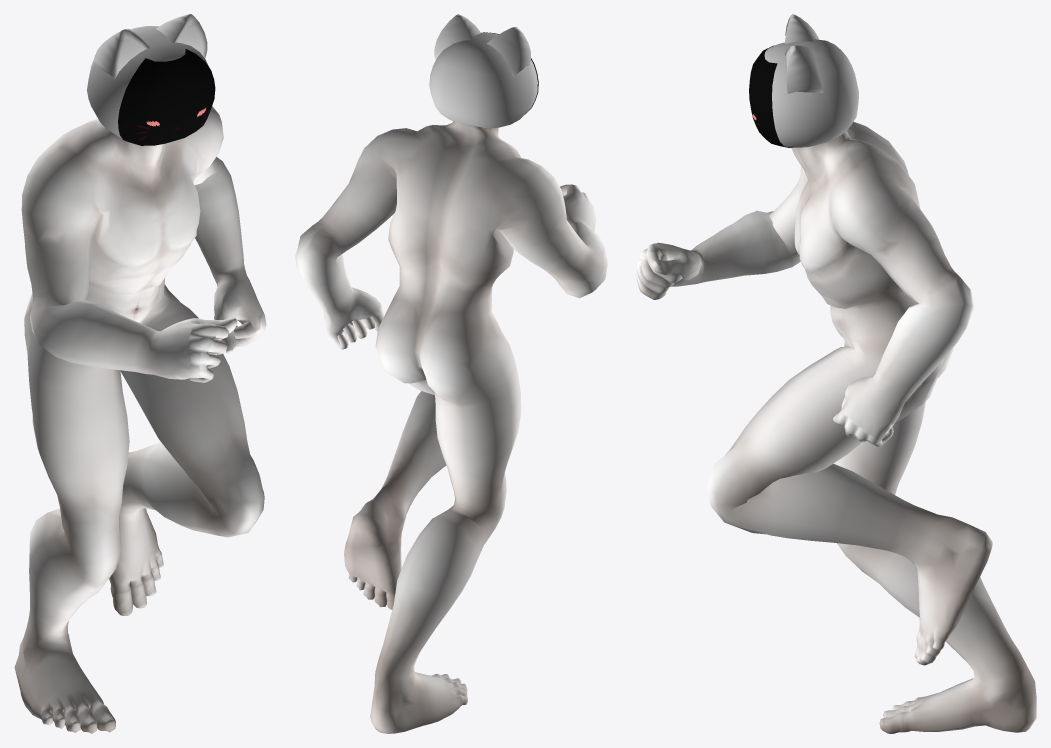
3 views of the same model, side by side, from view 1: azimuth 30°, elevation 25°; view 2: azimuth 150°, elevation 25°; view 3: azimuth 270°, elevation 25° (orthographic). The views are drawn at different scales.
Visible parts, largest first — view 1: Muscle_Body, ______?001, Cat_Head; view 2: Muscle_Body, Cat_Head; view 3: Muscle_Body, Cat_Head, ______?001.
Boxes of the visible parts, x1,y1,x2,y2 form: Muscle_Body: [14, 106, 266, 733]; ______?001: [118, 49, 215, 145]; Cat_Head: [87, 14, 208, 138]; Muscle_Body: [295, 121, 607, 733]; Cat_Head: [429, 14, 537, 128]; Muscle_Body: [636, 122, 1036, 733]; Cat_Head: [764, 14, 858, 147]; ______?001: [749, 45, 791, 147].
Bounding box in the file's own units: 10.23 × 26.89 × 13.91.
